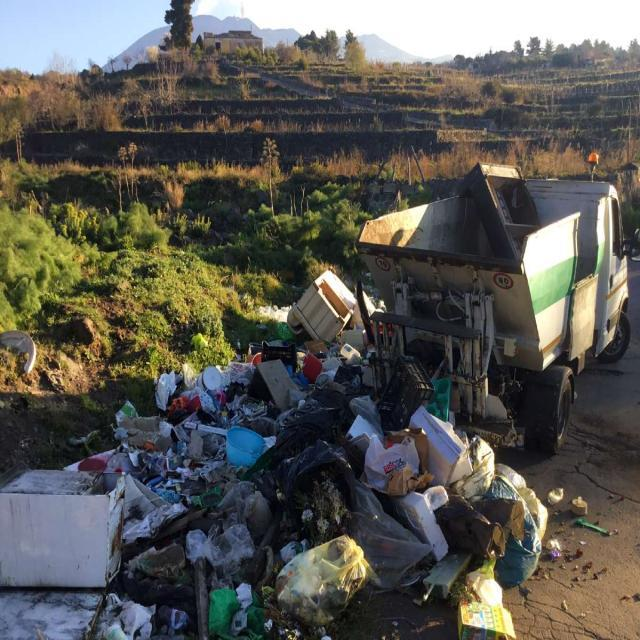Trashbag: (271, 428, 353, 508)
